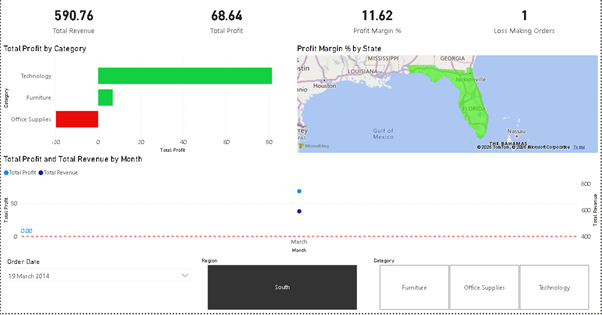

This screenshot's page, from the dashboard's own definition file:
{"tool":"powerbi","page":{"name":"Executive Summary","canvas":[1280,720],"ordinal":0},"visuals":[{"type":"card","fields":{"Values":["_Measures.Total Revenue"]},"box":[0,40,310,103.3],"z":0},{"type":"card","fields":{"Values":["_Measures.Total Profit"]},"box":[310,40,343.3,103.3],"z":1000},{"type":"card","fields":{"Values":["_Measures.Profit Margin %"]},"box":[653.3,40,301.7,103.3],"z":2000},{"type":"card","fields":{"Values":["_Measures.Loss Making Orders"]},"box":[955,40,325,103.3],"z":3000},{"type":"clusteredBarChart","fields":{"Category":["Orders.Category"],"Y":["_Measures.Total Profit"]},"box":[0,143.3,628.3,238.3],"z":4000},{"type":"filledMap","fields":{"Category":["Orders.State"]},"box":[628.3,143.3,651.7,238.3],"z":5000},{"type":"actionButton","box":[0,0,100,40],"z":6000},{"type":"lineChart","fields":{"Category":["Orders.Order Date.Variation.Date Hierarchy.Month"],"Y":["_Measures.Total Profit"],"Y2":["_Measures.Total Revenue"]},"box":[0,381.7,1280,215],"z":7000},{"type":"slicer","fields":{"Values":["Orders.Order Date"]},"box":[0,596.7,415,123.3],"z":8000},{"type":"slicer","fields":{"Values":["Orders.Region"]},"box":[415,596.7,368.3,123.3],"z":9000},{"type":"slicer","fields":{"Values":["Orders.Category"]},"box":[783.3,596.7,496.7,123.3],"z":10000},{"type":"textbox","box":[50,0,1230,40],"z":11000}]}

Visuals, with their boxes on the page's 1280x720 design canvas (x1, y1, x2, y2). These are canvas units, not pixel positions in the 602x315 screenshot, which may show the page scaled, cropped or inside an application window:
card - _Measures.Total Revenue: 0 40 310 143
card - _Measures.Total Profit: 310 40 653 143
card - _Measures.Profit Margin %: 653 40 955 143
card - _Measures.Loss Making Orders: 955 40 1280 143
clusteredBarChart - Orders.Category x _Measures.Total Profit: 0 143 628 382
filledMap - Orders.State: 628 143 1280 382
actionButton: 0 0 100 40
lineChart - Orders.Order Date.Variation.Date Hierarchy.Month x _Measures.Total Profit: 0 382 1280 597
slicer - Orders.Order Date: 0 597 415 720
slicer - Orders.Region: 415 597 783 720
slicer - Orders.Category: 783 597 1280 720
textbox: 50 0 1280 40
